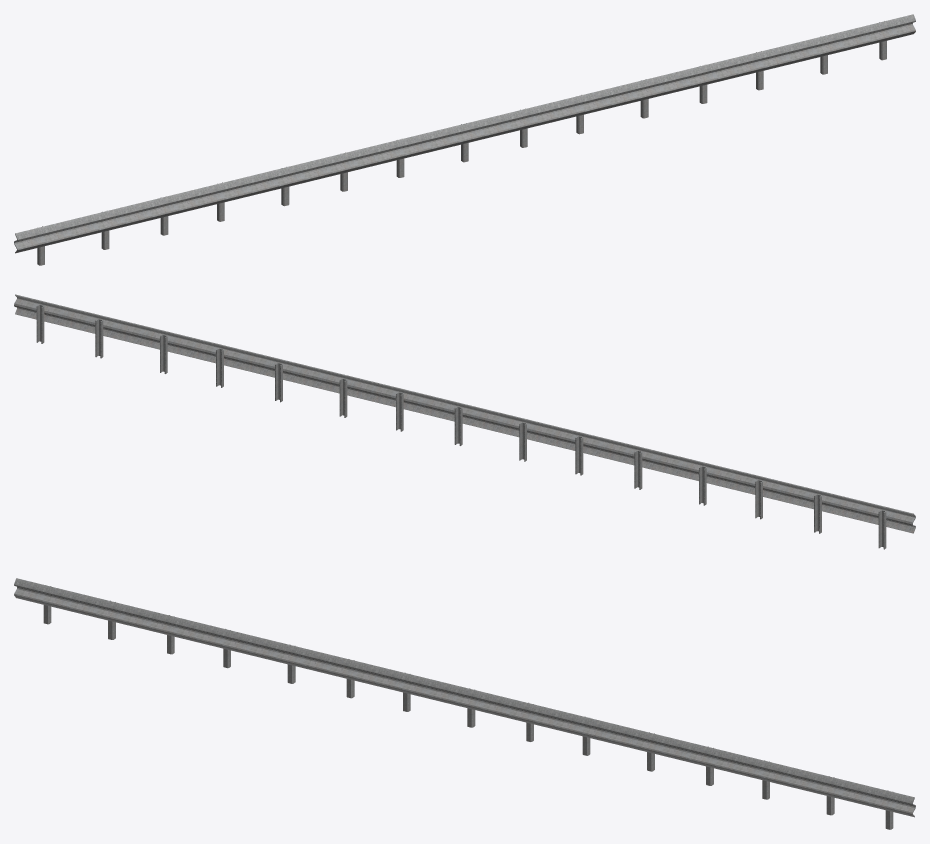
Rendered from modular-city-road-pack-game-ready-plane-004-19.glb.
The picture shows the model from 3 angles, top to bottom: view 1: azimuth 30°, elevation 25°; view 2: azimuth 150°, elevation 25°; view 3: azimuth 330°, elevation 25°; orthographic projection.
Visible parts, largest first — view 1: Plane.004_19; view 2: Plane.004_19; view 3: Plane.004_19.
Boxes of the visible parts, box(x1,y1,x2,y2) form: Plane.004_19: box(14, 14, 915, 265); Plane.004_19: box(14, 294, 915, 549); Plane.004_19: box(14, 578, 915, 829).
Bounding box in the file's own units: 5.43 × 0.2288 × 0.0629.
1 material, 1 textured.
